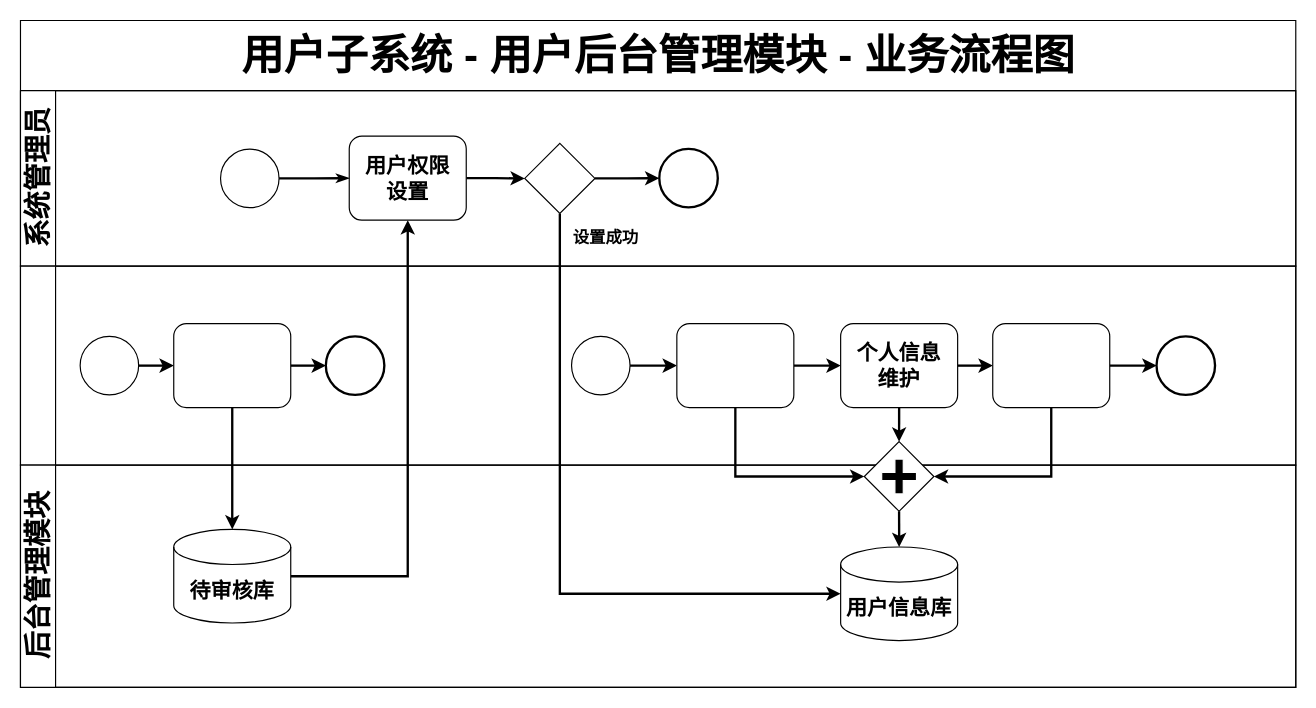
Some shapes in this 1316 by 708 pixel diagram are drawn without their labels. The shapes that lost their labels are listed below. From the top down, each one's box as (x1, y1, x2, y2) in pixels, then its label:
(173, 322, 291, 408): 账号注册
(19, 265, 1296, 465): 普通人员
(676, 322, 794, 408): 用户登录
(992, 322, 1110, 408): 用户注销
